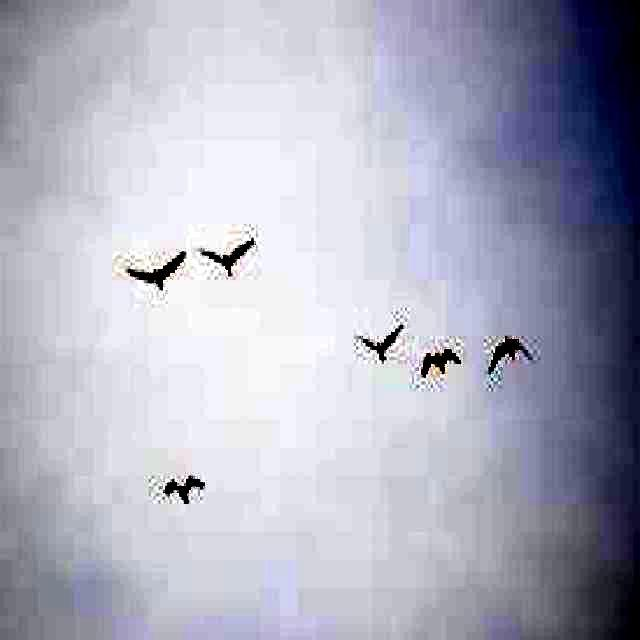bird: (124, 237, 188, 296), (204, 230, 260, 289), (358, 310, 406, 378), (416, 334, 464, 390), (155, 469, 215, 512), (486, 335, 536, 380)
